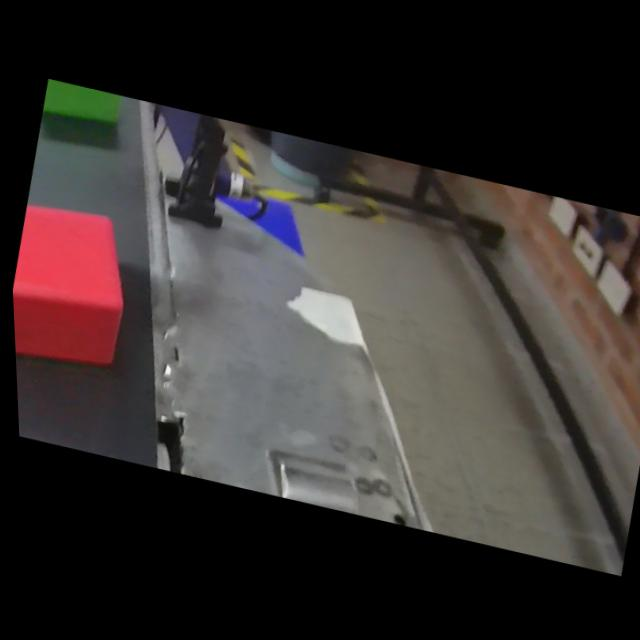greenBox: (38, 78, 135, 139)
redBox: (7, 193, 148, 381)
